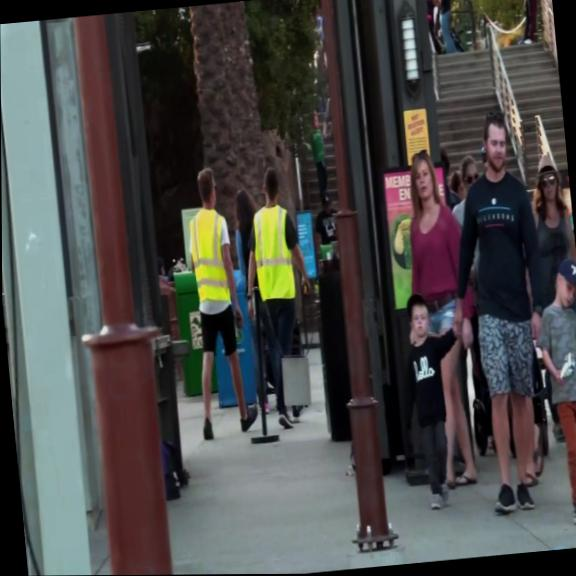safety_vest: (187, 206, 234, 312), (249, 201, 296, 303)
